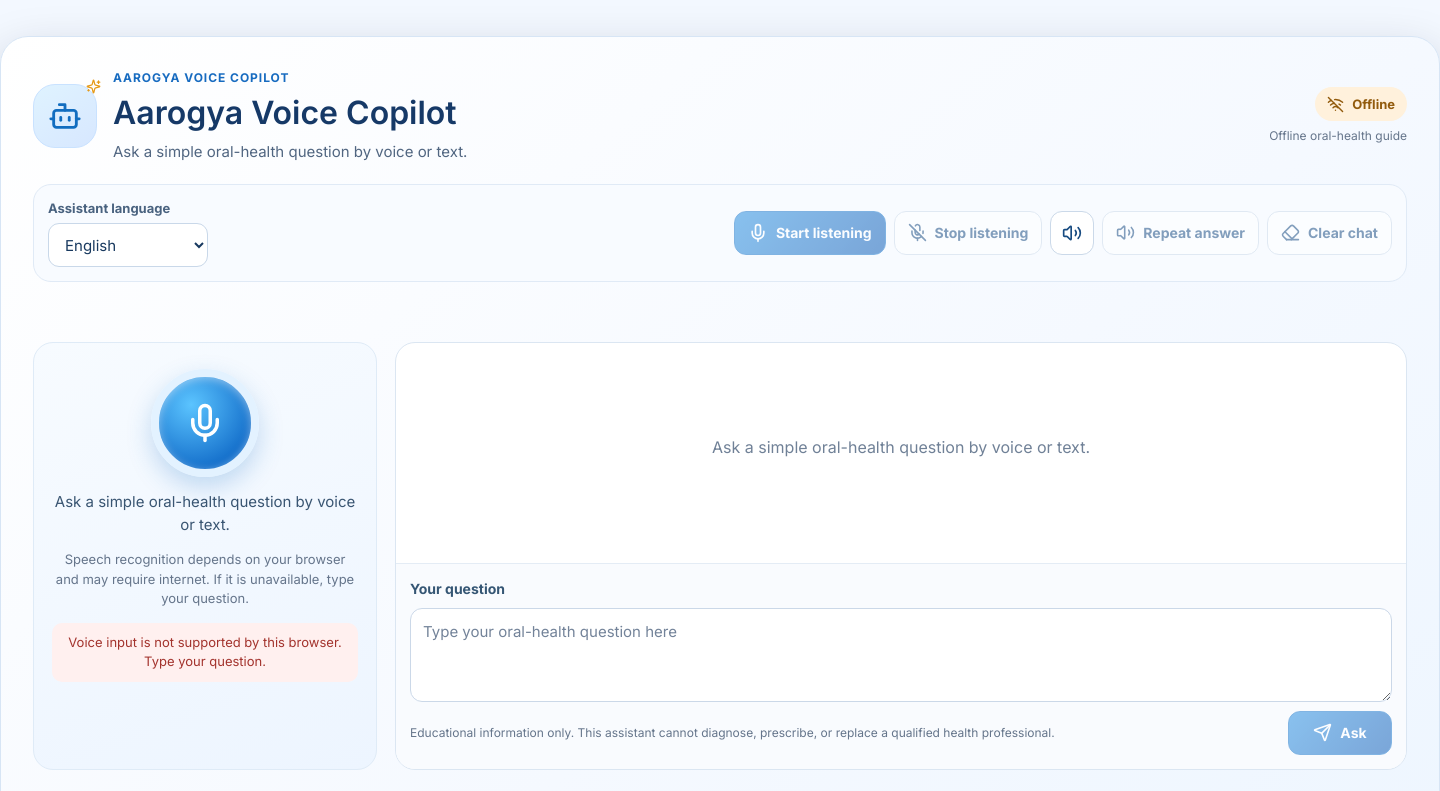
Test: Home Page voice copilot › answers from the bundled FAQ while offline without calling the online model
Type "What are the early symptoms of oral cancer?" into the text box labelled "Your question" at (901, 655), box x1=410 y1=608 x2=1392 y2=702
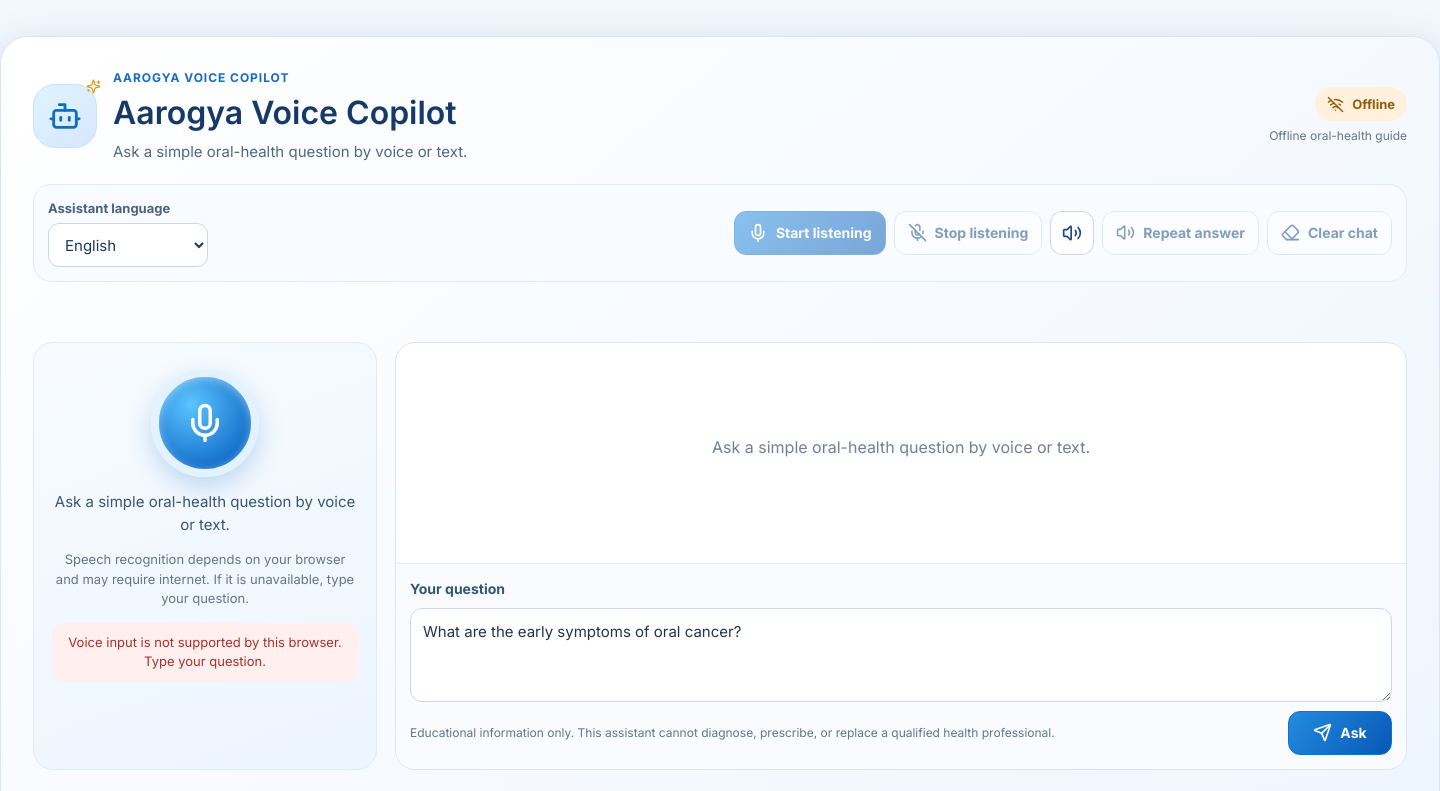
Click the button "Ask" at (1340, 732), box x1=1288 y1=710 x2=1392 y2=754
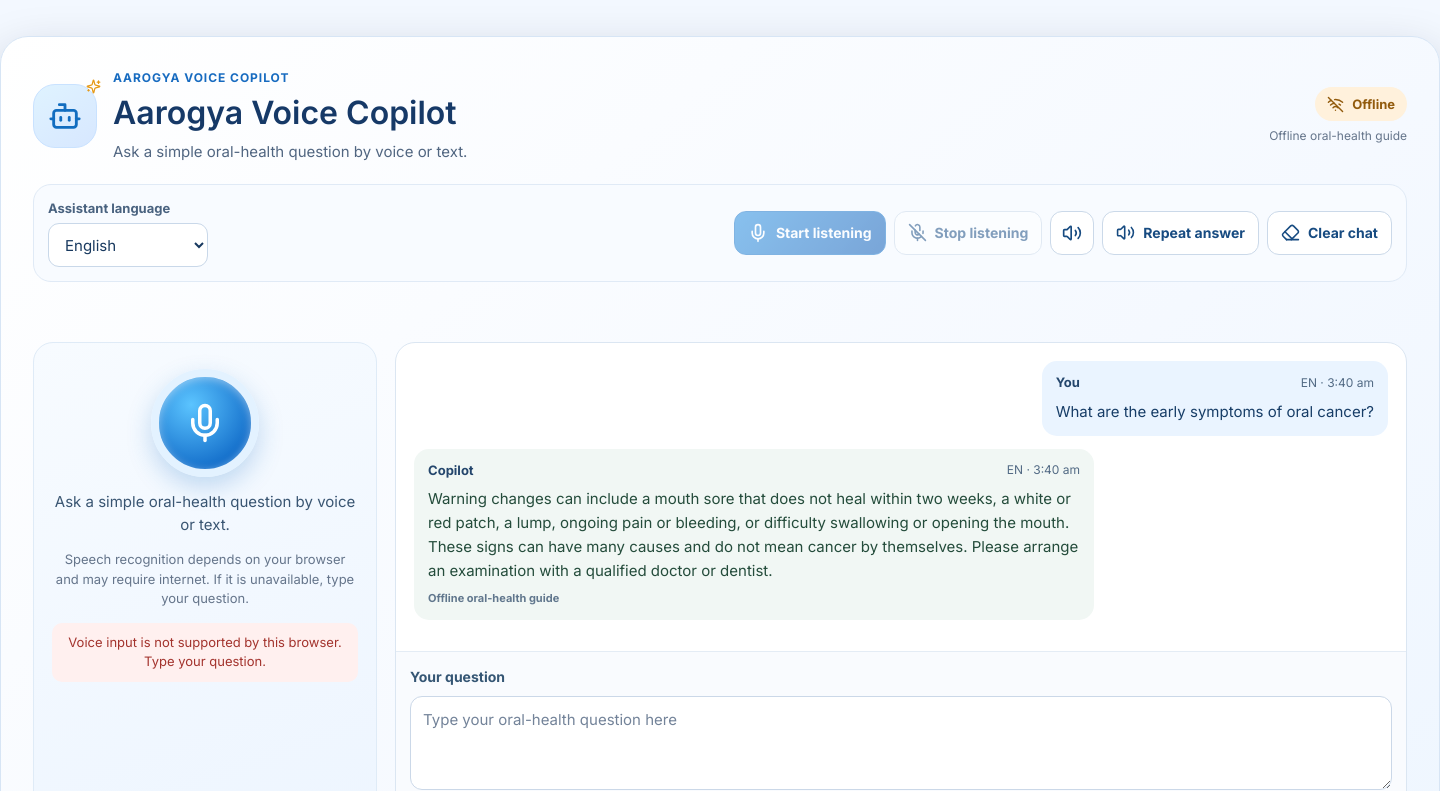
Result: the text "Warning changes can include" is shown at x1=428 y1=489 x2=1078 y2=580
Result: the 2nd text "Offline oral-health guide" is shown at x1=428 y1=590 x2=559 y2=606
